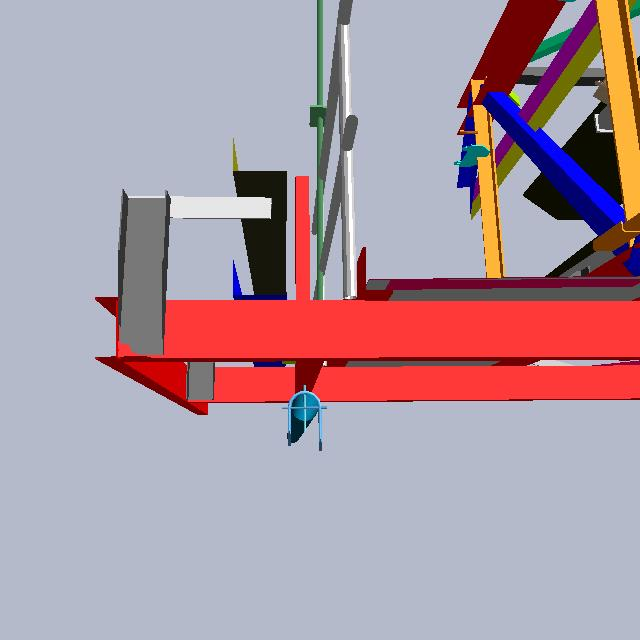Poste: (312, 1, 326, 315)
Soporte: (287, 174, 314, 362)
